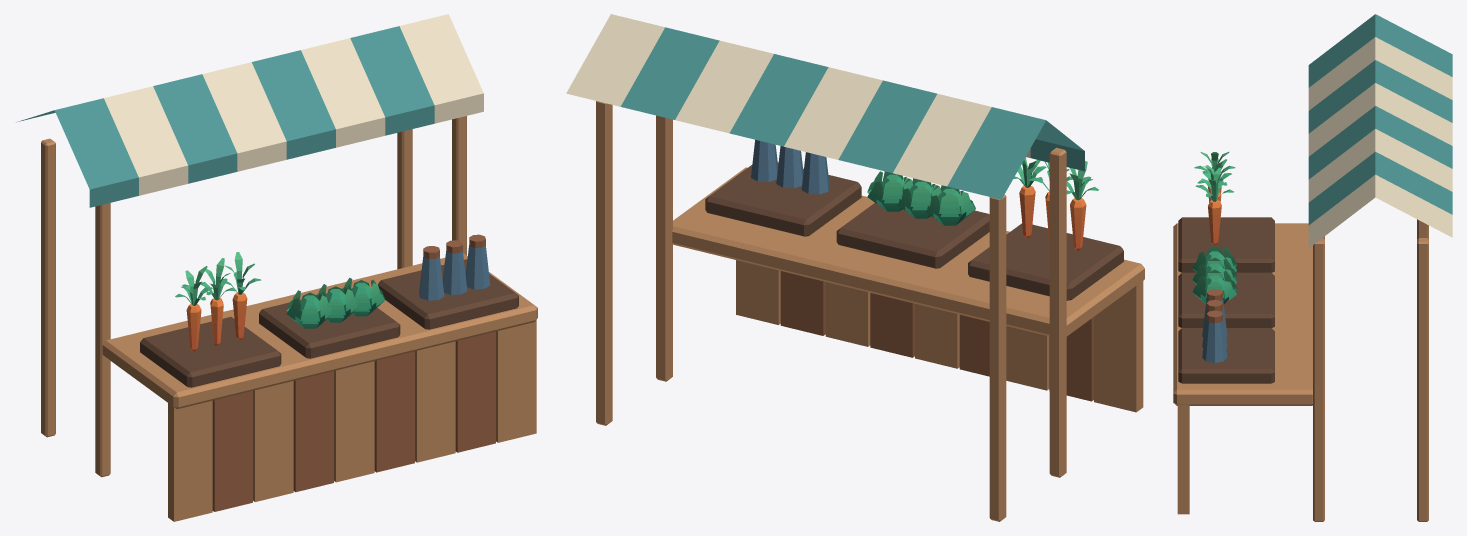
The model's file is trader_stall.glb.
3 views of the same model, side by side, from view 1: azimuth 30°, elevation 25°; view 2: azimuth 150°, elevation 25°; view 3: azimuth 270°, elevation 25° (orthographic). The views are drawn at different scales.
Visible parts, largest first — view 1: trader_stall_建筑共用调色板.040, trader_stall_food-kit 调色板; view 2: trader_stall_建筑共用调色板.040, trader_stall_food-kit 调色板; view 3: trader_stall_建筑共用调色板.040, trader_stall_food-kit 调色板.
Part boxes in pixels (<box>): trader_stall_建筑共用调色板.040: <box>16,14,537,521</box>; trader_stall_food-kit 调色板: <box>175,252,384,351</box>; trader_stall_建筑共用调色板.040: <box>566,14,1144,521</box>; trader_stall_food-kit 调色板: <box>867,157,1098,250</box>; trader_stall_建筑共用调色板.040: <box>1173,14,1452,521</box>; trader_stall_food-kit 调色板: <box>1192,152,1237,304</box>.
Bounding box in the file's own units: 2.92 × 2.46 × 1.88.
Materials: 2 (2 with a texture image).
